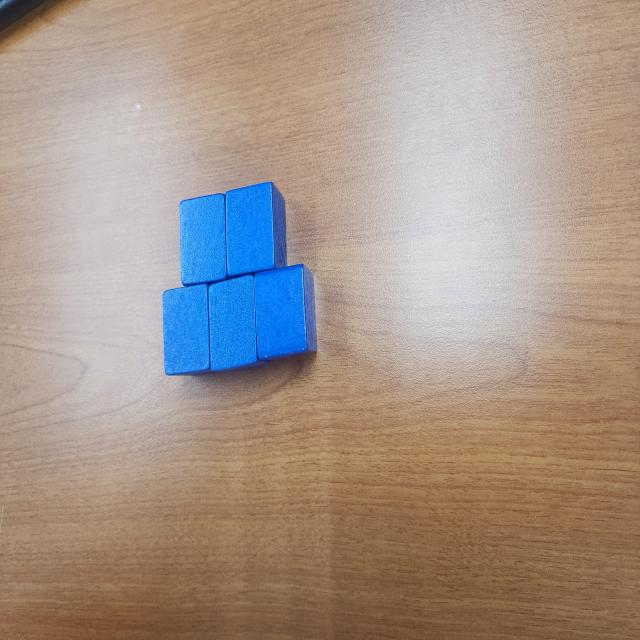blue: (208, 274, 271, 372), (254, 264, 317, 361), (225, 182, 288, 277), (162, 282, 215, 376), (180, 194, 228, 286)
